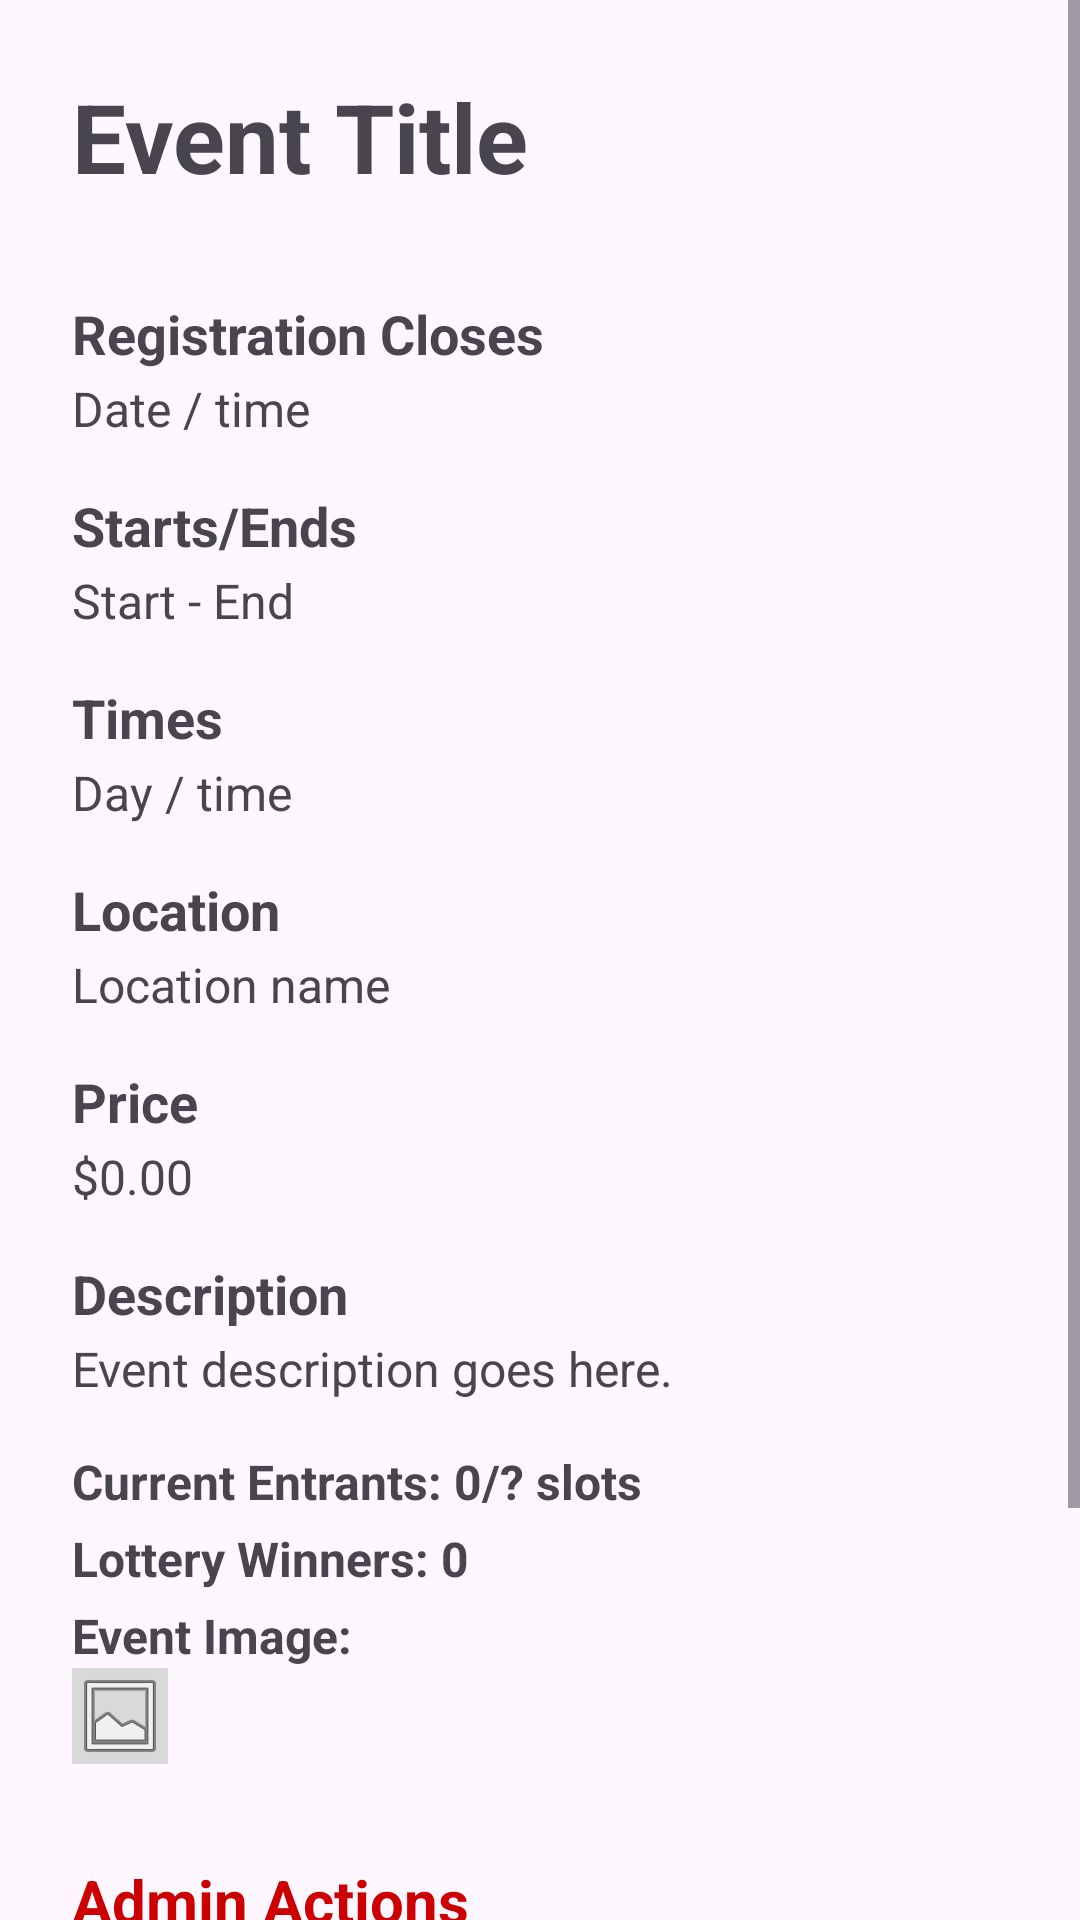

Icon bounding boxes for this 1080×1920 phone screenshot, format (x1, y1, x2, y2):
gallery: (72, 1668, 168, 1764)
